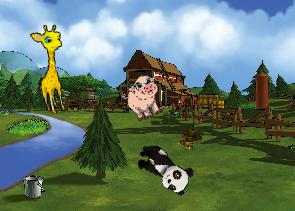giraffe: (28, 22, 77, 116)
panda: (130, 139, 197, 198)
pig: (118, 71, 170, 125)
